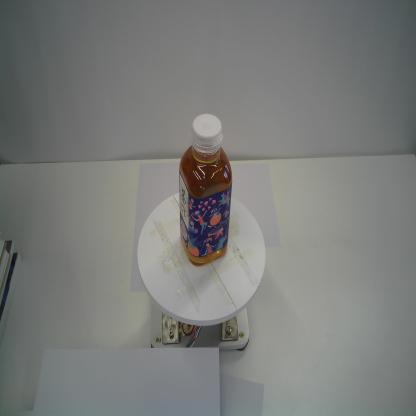Drink: (177, 113, 234, 267)
